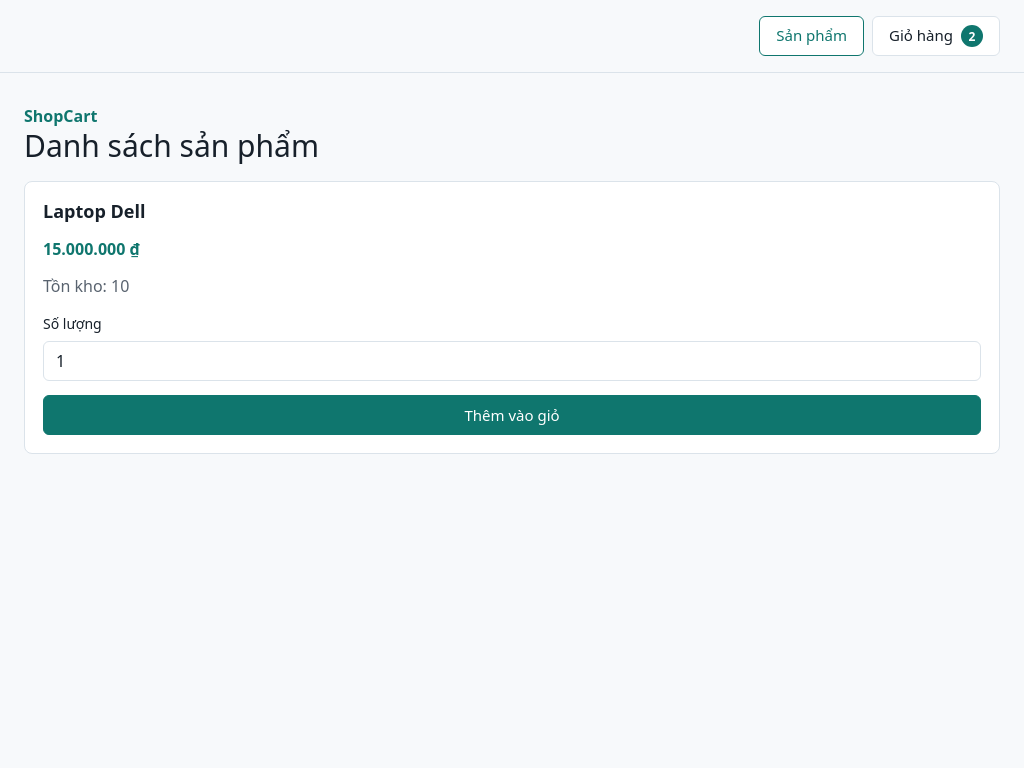
Test: Cart Mock Tests › Mock: cartService.addToCart
Step 1. Click the button with test id "add-to-cart-P001" → (512, 415), box [43,395,981,435]
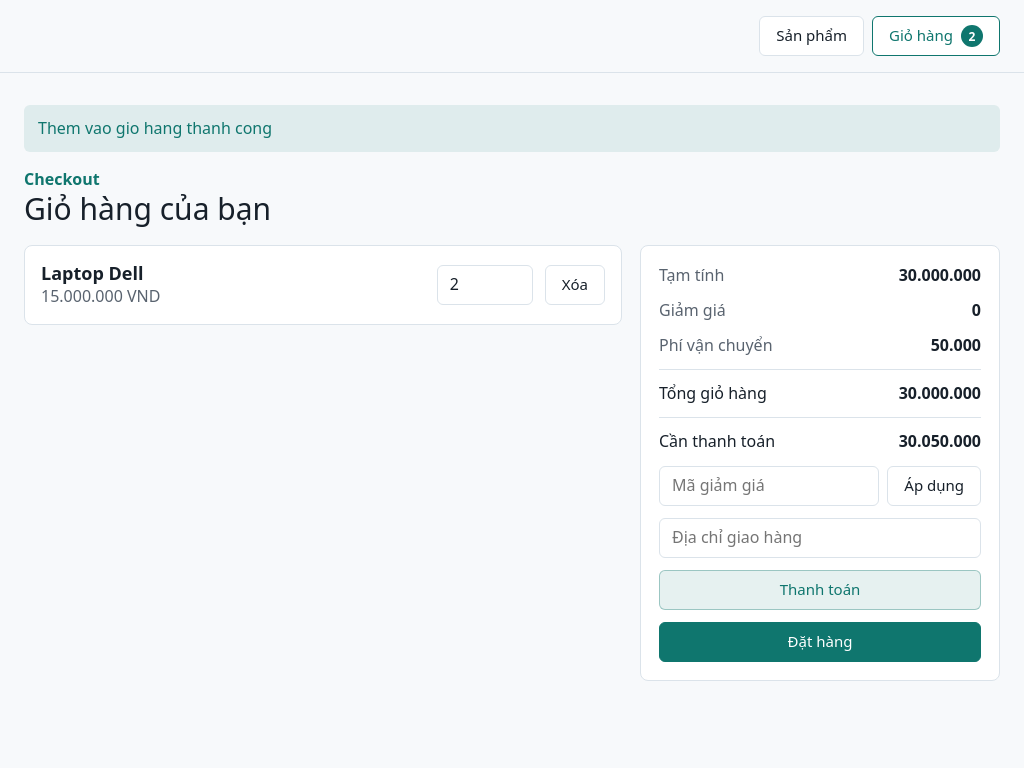
Expected: the text "Them vao gio hang thanh cong" is shown, [24,105,1000,152]
